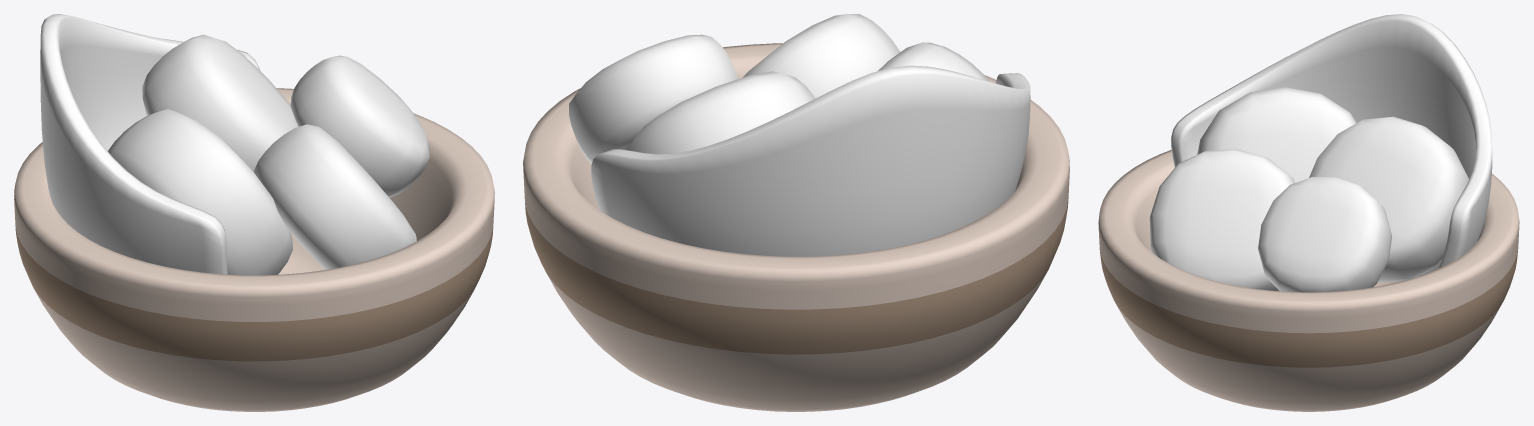
The model's file is 碗和饼.glb.
3 renders of one model, left to right at view 1: azimuth 30°, elevation 25°; view 2: azimuth 150°, elevation 25°; view 3: azimuth 270°, elevation 25°, orthographic. The views are drawn at different scales.
Visible parts, largest first — view 1: Bowl, Cake.009, Cake.008, Cake.007, Cake.006; view 2: Bowl, Cake.006, Cake.007, Cake.008, Cake.009; view 3: Bowl, Cake.008, Cake.007, Cake.006, Cake.009.
Part boxes in pixels (box(x1,y1,x2,y2)): Bowl: box(14, 14, 494, 411); Cake.009: box(108, 109, 292, 275); Cake.008: box(253, 124, 416, 269); Cake.007: box(142, 34, 297, 171); Cake.006: box(290, 55, 429, 197); Bowl: box(523, 43, 1069, 411); Cake.006: box(569, 34, 737, 163); Cake.007: box(626, 71, 815, 154); Cake.008: box(743, 14, 899, 98); Cake.009: box(878, 42, 989, 81); Bowl: box(1098, 14, 1519, 411); Cake.008: box(1149, 149, 1294, 291); Cake.007: box(1309, 116, 1468, 282); Cake.006: box(1258, 176, 1391, 292); Cake.009: box(1197, 87, 1356, 182).
Bounding box in the file's own units: 0.2122 × 0.1563 × 0.2122.
